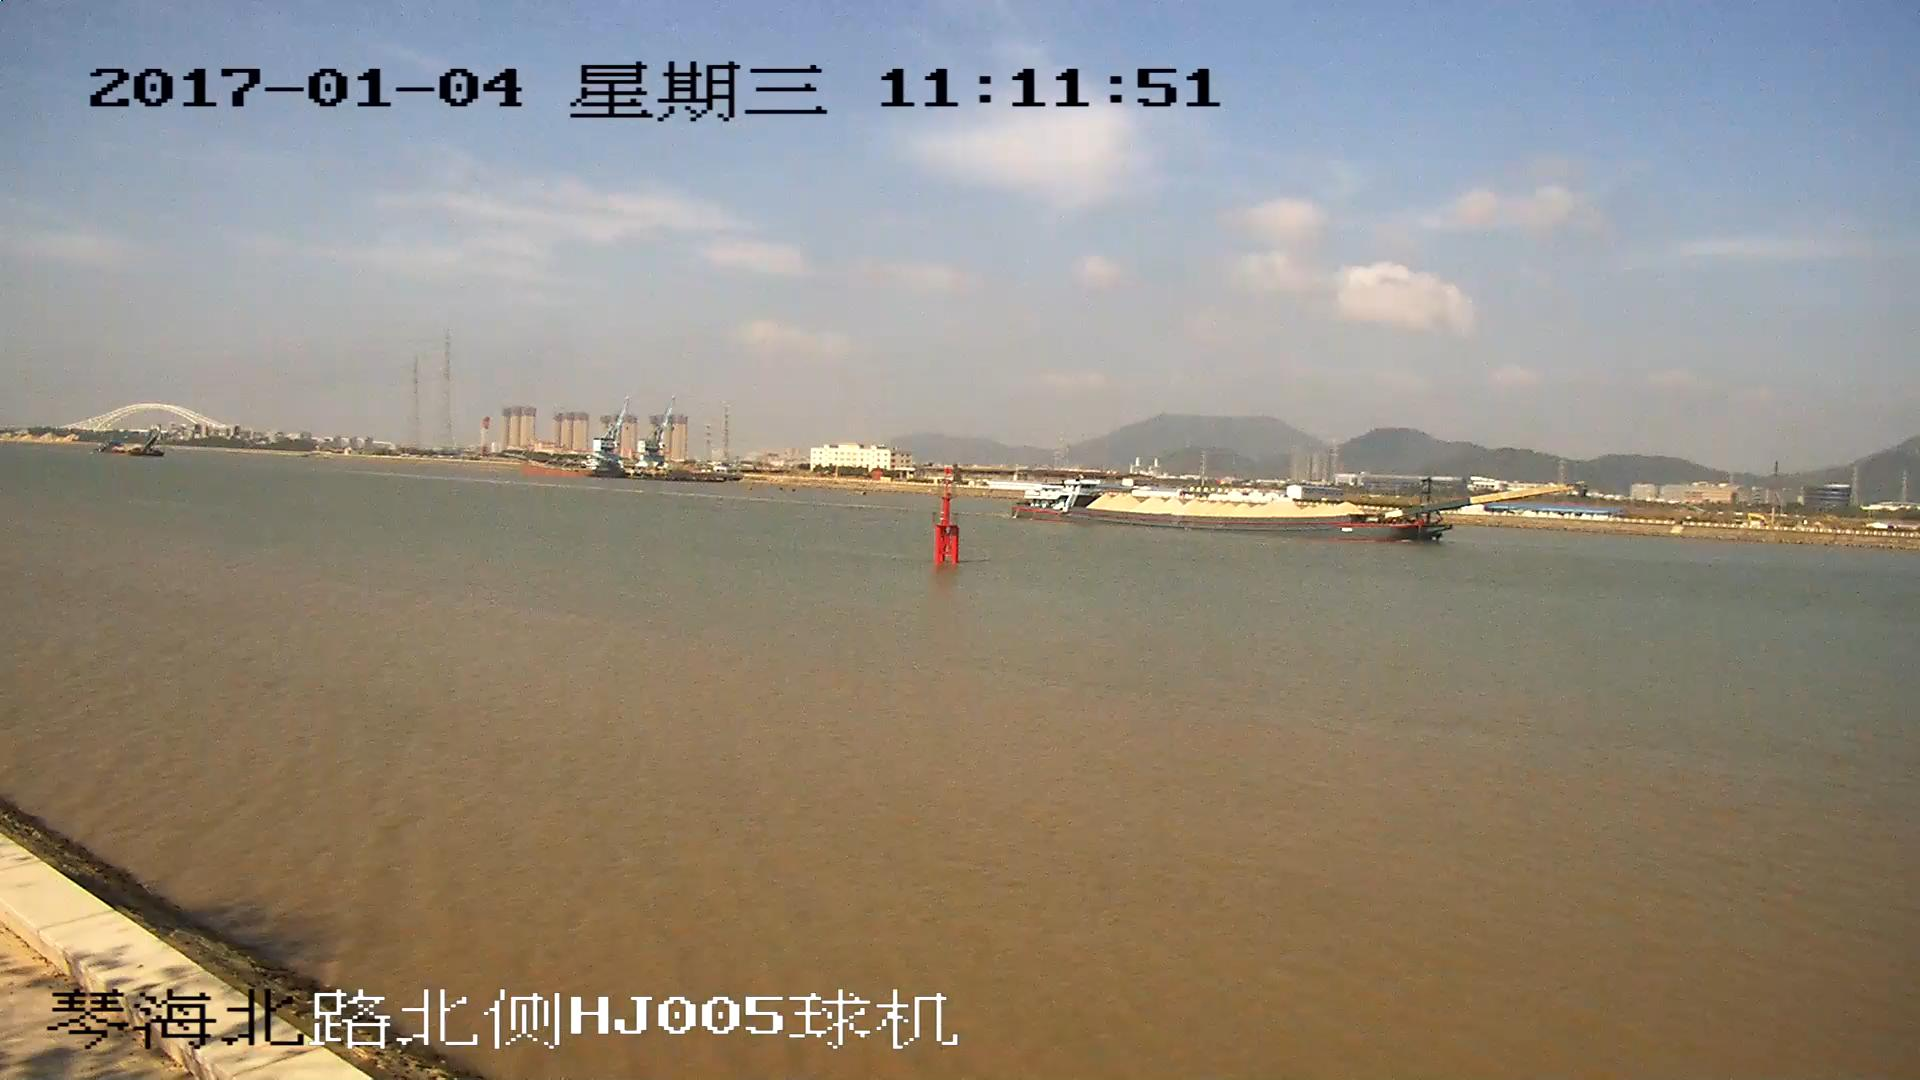ore carrier: (1011, 483, 1577, 540)
